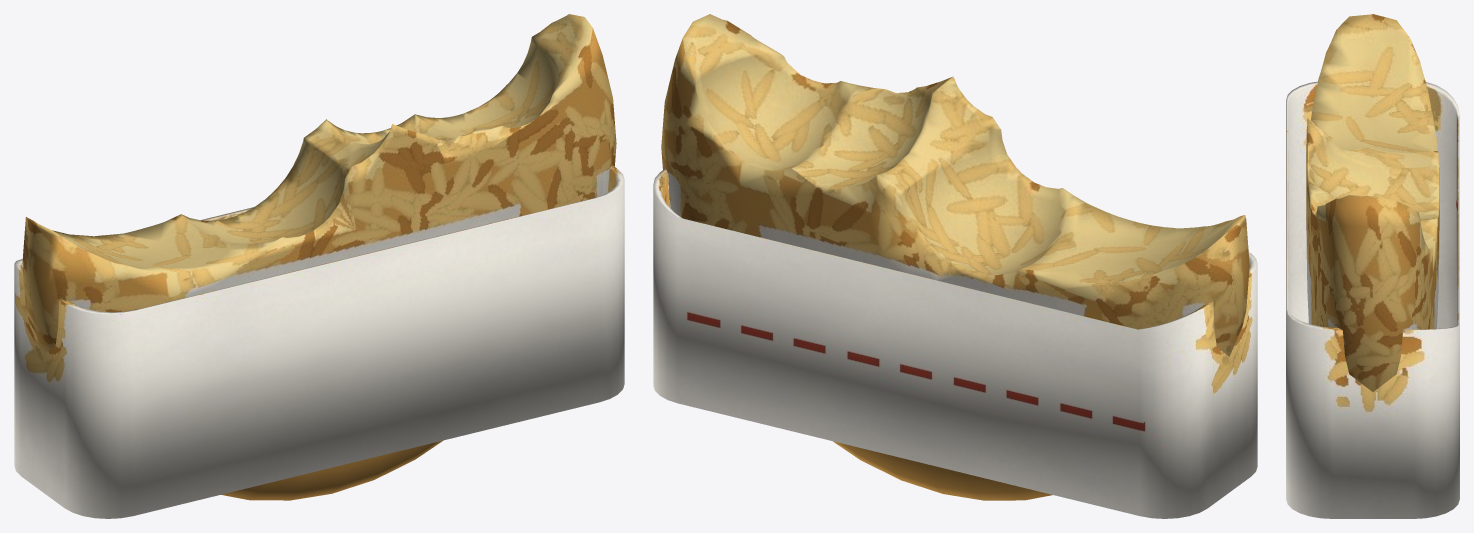
The model's file is hashbrown_b2.glb.
3 views of the same model, side by side, from view 1: azimuth 30°, elevation 25°; view 2: azimuth 150°, elevation 25°; view 3: azimuth 270°, elevation 25° (orthographic). The views are drawn at different scales.
Parts seen in each view (by area): view 1: prop_hashbrown_b2_felt; view 2: prop_hashbrown_b2_felt; view 3: prop_hashbrown_b2_felt.
Part boxes in pixels (x1,y1,x2,y2): prop_hashbrown_b2_felt: (14, 14, 624, 518); prop_hashbrown_b2_felt: (653, 14, 1257, 518); prop_hashbrown_b2_felt: (1286, 14, 1459, 518).
Size of the model in its own units: 0.1597 by 0.1076 by 0.045.
1 material, 1 textured.
